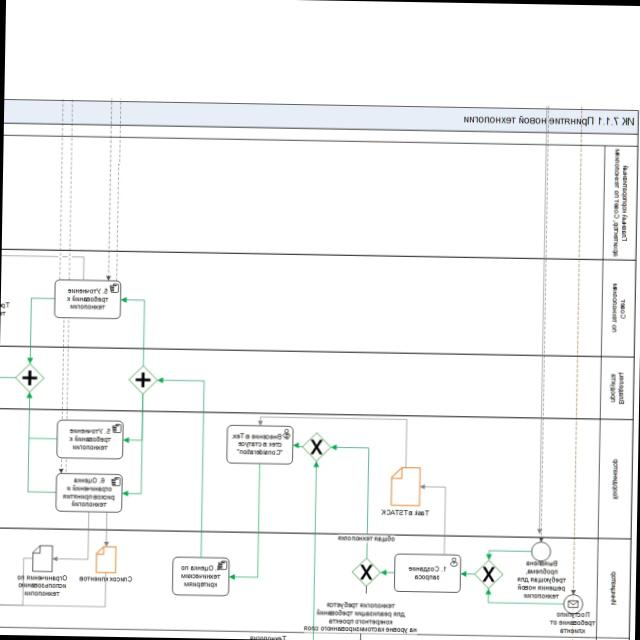arrow: (154, 376, 207, 557), (329, 443, 371, 558), (229, 462, 262, 581), (23, 391, 57, 493), (122, 392, 146, 498), (120, 296, 149, 366), (26, 296, 55, 364), (25, 391, 58, 440), (484, 587, 564, 605), (123, 392, 146, 444), (485, 547, 531, 561), (460, 569, 475, 578), (380, 568, 395, 577), (293, 441, 304, 449)
circle: (530, 541, 551, 562), (562, 594, 583, 615)
diamond: (350, 557, 380, 587), (14, 363, 44, 393), (300, 432, 330, 462), (473, 560, 503, 589), (128, 365, 157, 394)
rectangle: (55, 472, 122, 513), (225, 425, 293, 465), (56, 419, 123, 459), (393, 554, 460, 592), (54, 280, 120, 318), (171, 556, 229, 596)
text_region: (302, 599, 418, 633), (517, 559, 567, 600), (14, 572, 68, 598), (549, 611, 596, 635), (77, 573, 133, 584), (336, 534, 396, 544), (379, 507, 429, 518)
